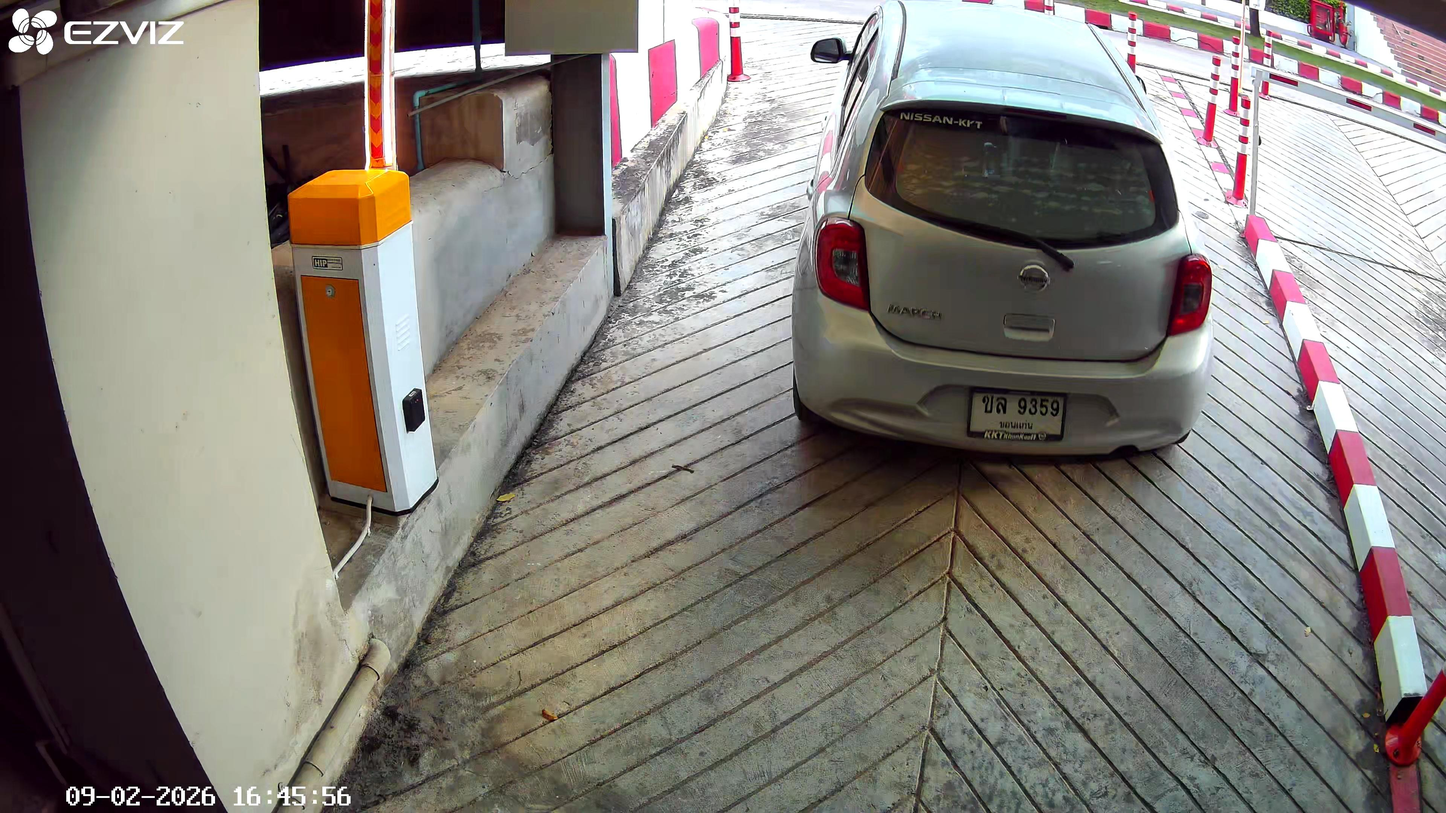car: (788, 5, 1214, 469)
license-plate: (966, 384, 1068, 443)
